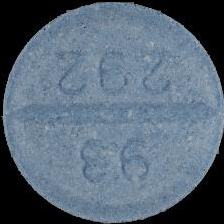63739-046: (0, 0, 224, 224)
